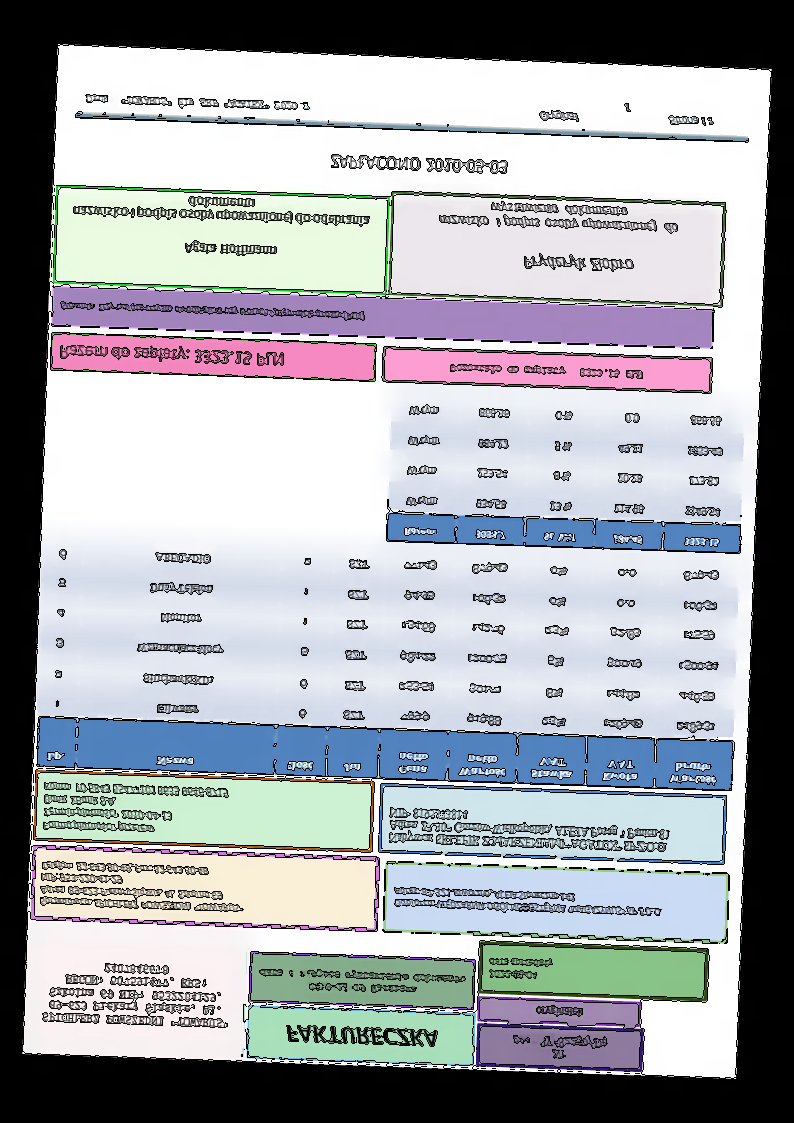Table: (36, 533, 739, 792), (385, 390, 747, 555)
TextBox: (387, 806, 674, 855), (40, 959, 231, 1030), (37, 858, 248, 914), (72, 191, 371, 230), (40, 779, 230, 839), (390, 885, 665, 920), (438, 199, 680, 235), (58, 298, 366, 323), (256, 967, 467, 999), (58, 340, 285, 368), (538, 100, 717, 127), (329, 153, 510, 177), (84, 93, 310, 112), (449, 360, 644, 381), (285, 1023, 438, 1049), (510, 1032, 611, 1063), (521, 251, 636, 276), (487, 955, 554, 982), (183, 239, 278, 258), (534, 1003, 585, 1020)
